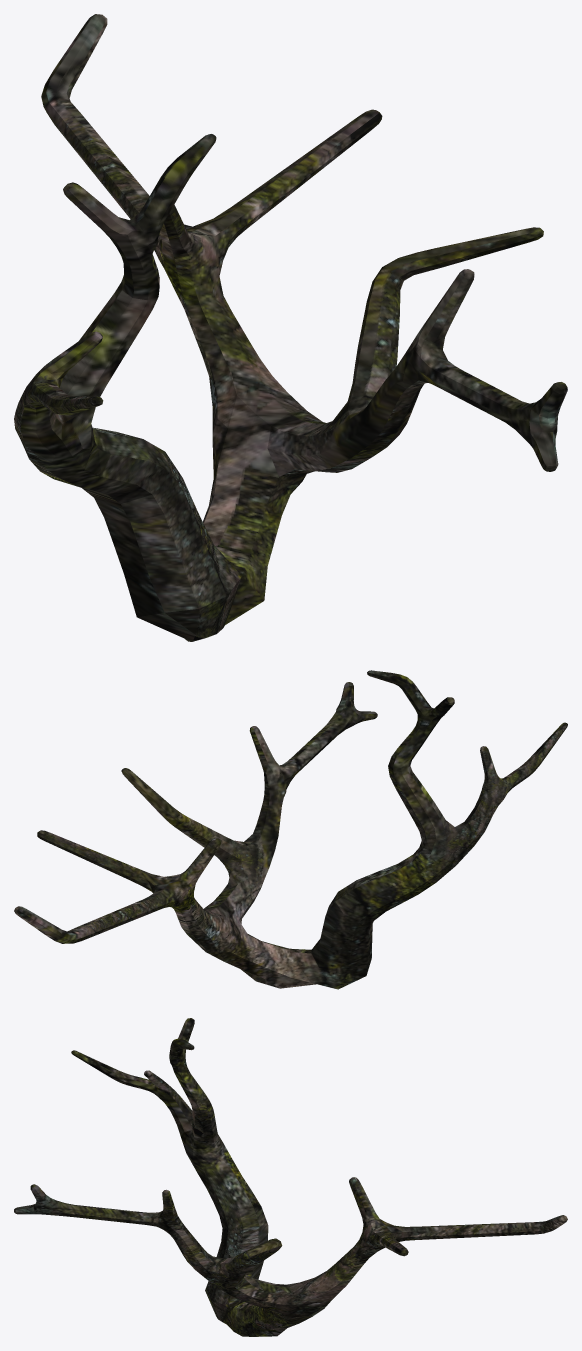
File: bush5.obj
3 views of the same model, one above another, from view 1: azimuth 30°, elevation 25°; view 2: azimuth 150°, elevation 25°; view 3: azimuth 270°, elevation 25° (orthographic). The views are drawn at different scales.
Parts seen in each view (by area): view 1: Bush5_Cube.010; view 2: Bush5_Cube.010; view 3: Bush5_Cube.010.
Part boxes in pixels (x1,y1,x2,y2): Bush5_Cube.010: (14,14,567,641); Bush5_Cube.010: (14,670,567,989); Bush5_Cube.010: (14,1018,567,1336).
Size of the model in its own units: 2.63 by 2.15 by 4.03.
